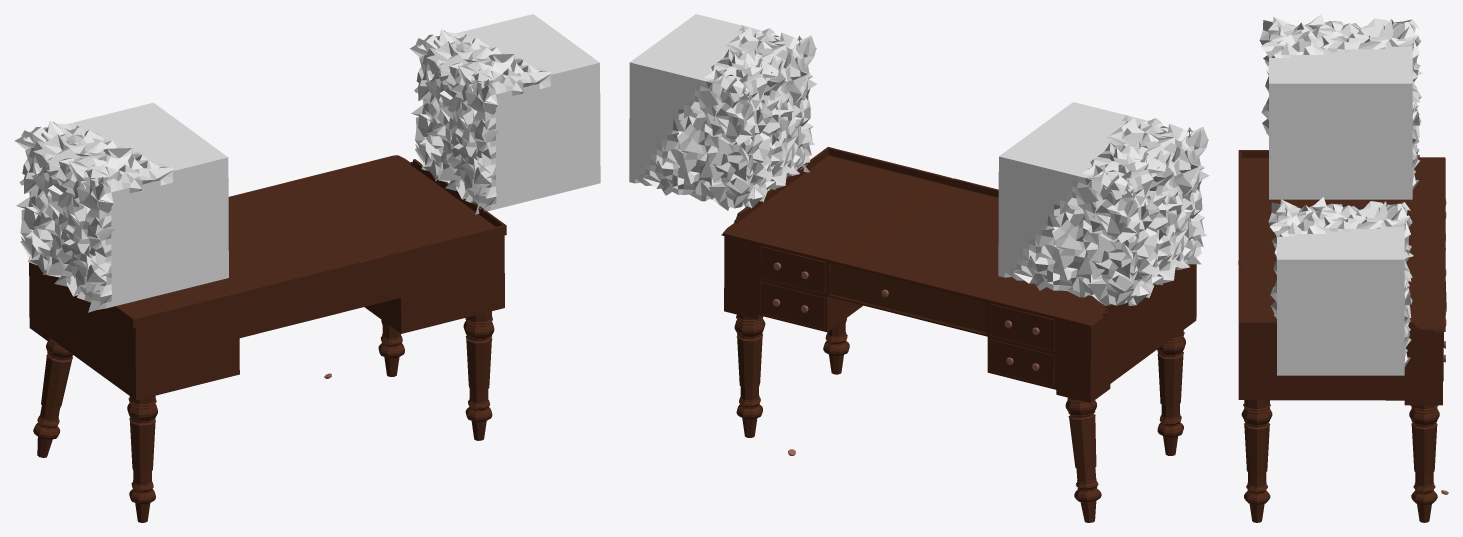
Rendered from table_broken.glb.
3 views of the same model, side by side, from view 1: azimuth 30°, elevation 25°; view 2: azimuth 150°, elevation 25°; view 3: azimuth 270°, elevation 25° (orthographic). The views are drawn at different scales.
Visible parts, largest first — view 1: Table top.001, Table top, table_structure, table_top_broken, table_top, leg_l_front; view 2: Table top.001, Table top, table_top, table_top_broken, table_structure, leg_l_front, table_drawers_,middle, table_drawers_top, table_drawers_bottom; view 3: Table top.001, Table top, table_top, table_structure, table_top_broken, leg_l_front.
Boxes of the visible parts, x1=… form: Table top.001: x1=15, y1=102, x2=228, y2=312; Table top: x1=410, y1=14, x2=600, y2=214; table_structure: x1=29, y1=235, x2=504, y2=400; table_top_broken: x1=106, y1=155, x2=506, y2=328; table_top: x1=107, y1=157, x2=506, y2=328; leg_l_front: x1=33, y1=311, x2=494, y2=522; Table top.001: x1=998, y1=102, x2=1209, y2=305; Table top: x1=629, y1=14, x2=816, y2=210; table_top: x1=722, y1=147, x2=1123, y2=327; table_top_broken: x1=722, y1=147, x2=1122, y2=327; table_structure: x1=721, y1=234, x2=1196, y2=403; leg_l_front: x1=734, y1=314, x2=1185, y2=522; table_drawers_,middle: x1=829, y1=262, x2=989, y2=333; table_drawers_top: x1=760, y1=246, x2=1054, y2=351; table_drawers_bottom: x1=760, y1=282, x2=1054, y2=387; Table top.001: x1=1259, y1=14, x2=1422, y2=199; Table top: x1=1268, y1=197, x2=1413, y2=375; table_top: x1=1238, y1=150, x2=1445, y2=331; table_structure: x1=1238, y1=331, x2=1445, y2=405; table_top_broken: x1=1238, y1=150, x2=1445, y2=331; leg_l_front: x1=1241, y1=400, x2=1439, y2=522.
Bounding box in the file's own units: 2.23 × 1.43 × 0.8237.
